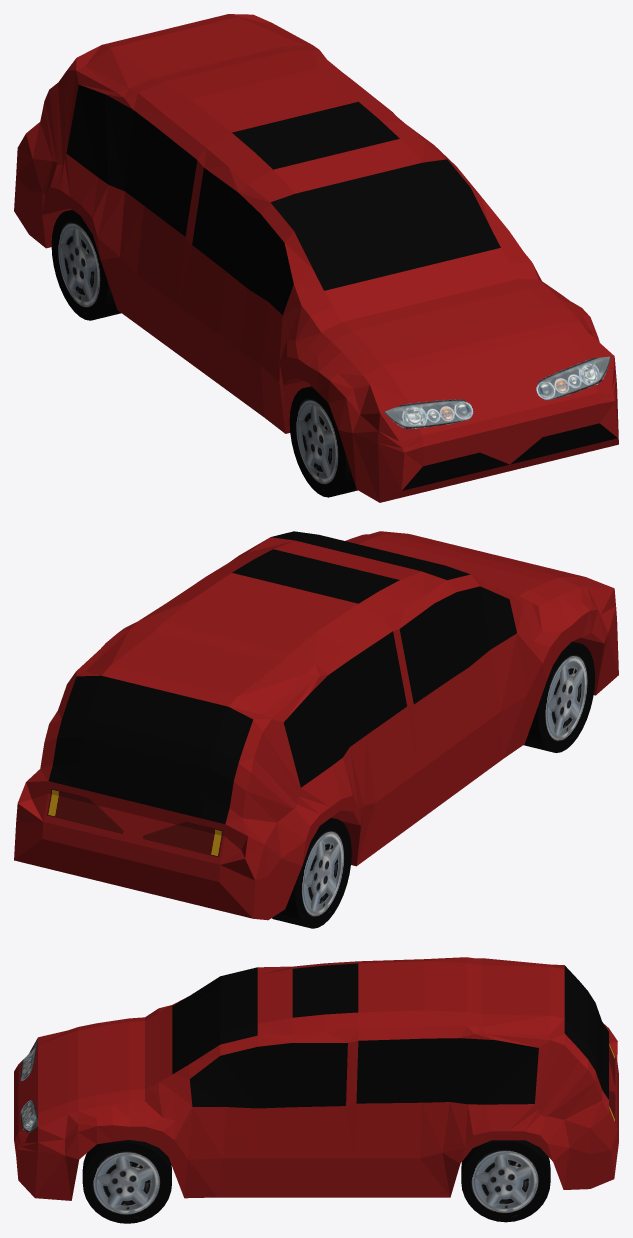
Rendered from van.obj.
3 renders of one model, top to bottom at view 1: azimuth 30°, elevation 25°; view 2: azimuth 150°, elevation 25°; view 3: azimuth 270°, elevation 25°, orthographic. The views are drawn at different scales.
Parts seen in each view (by area): view 1: Cube, Cube.002_Cube.001, Cylinder.005_Cylinder.001, Cylinder.004_Cylinder.001; view 2: Cube, Cube.002_Cube.001, Cylinder.005_Cylinder.001, Cylinder.004_Cylinder.001; view 3: Cube.002_Cube.001, Cube, Cylinder.003_Cylinder.001, Cylinder_Cylinder.001.
Boxes of the visible parts, bbox=[...] form: Cube: bbox=[14, 29, 512, 502]; Cube.002_Cube.001: bbox=[165, 14, 618, 473]; Cylinder.005_Cylinder.001: bbox=[289, 386, 357, 497]; Cylinder.004_Cylinder.001: bbox=[51, 210, 121, 320]; Cube: bbox=[130, 550, 618, 920]; Cube.002_Cube.001: bbox=[14, 531, 495, 889]; Cylinder.005_Cylinder.001: bbox=[523, 641, 595, 752]; Cylinder.004_Cylinder.001: bbox=[272, 817, 351, 928]; Cube.002_Cube.001: bbox=[14, 986, 618, 1200]; Cube: bbox=[14, 957, 618, 1106]; Cylinder.003_Cylinder.001: bbox=[82, 1140, 171, 1223]; Cylinder_Cylinder.001: bbox=[461, 1140, 550, 1222].
Bounding box in the file's own units: 3.23 × 2.81 × 8.04.
6 materials, 6 textured.
